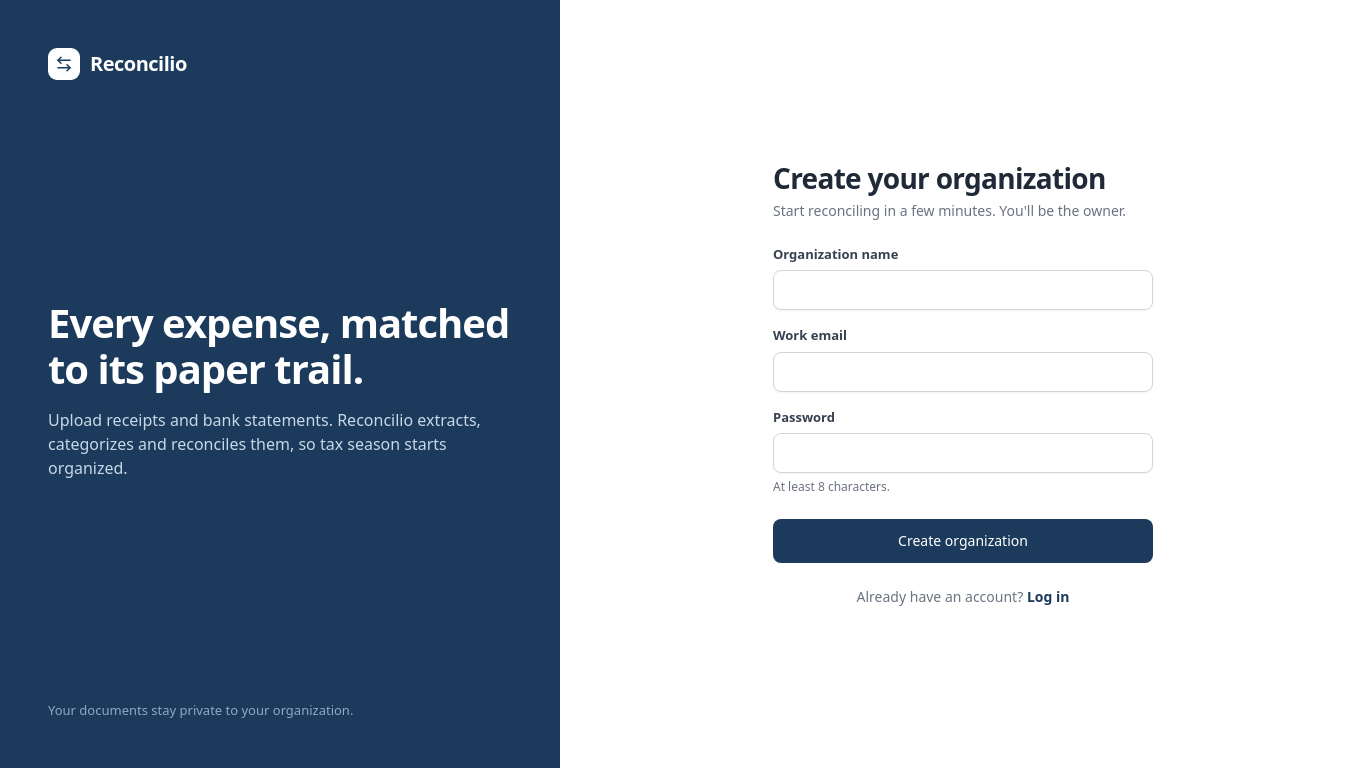
Scenario: signup flow › shows the API error message on a failed signup
Type "Acme Tax" into the field labelled "Organization name" at (963, 290), box [773,270,1153,310]
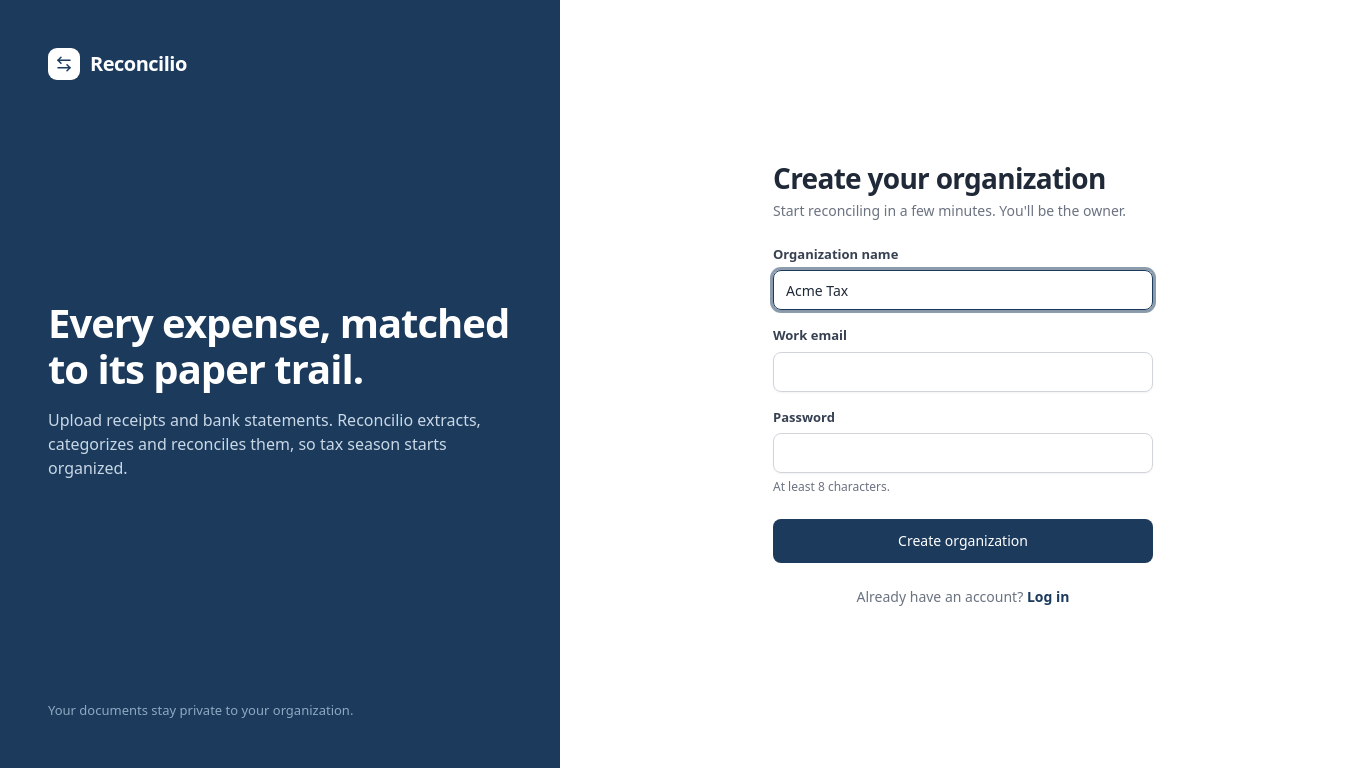
Type "owner@example.com" into the field labelled "Work email" at (963, 372), box [773,352,1153,392]
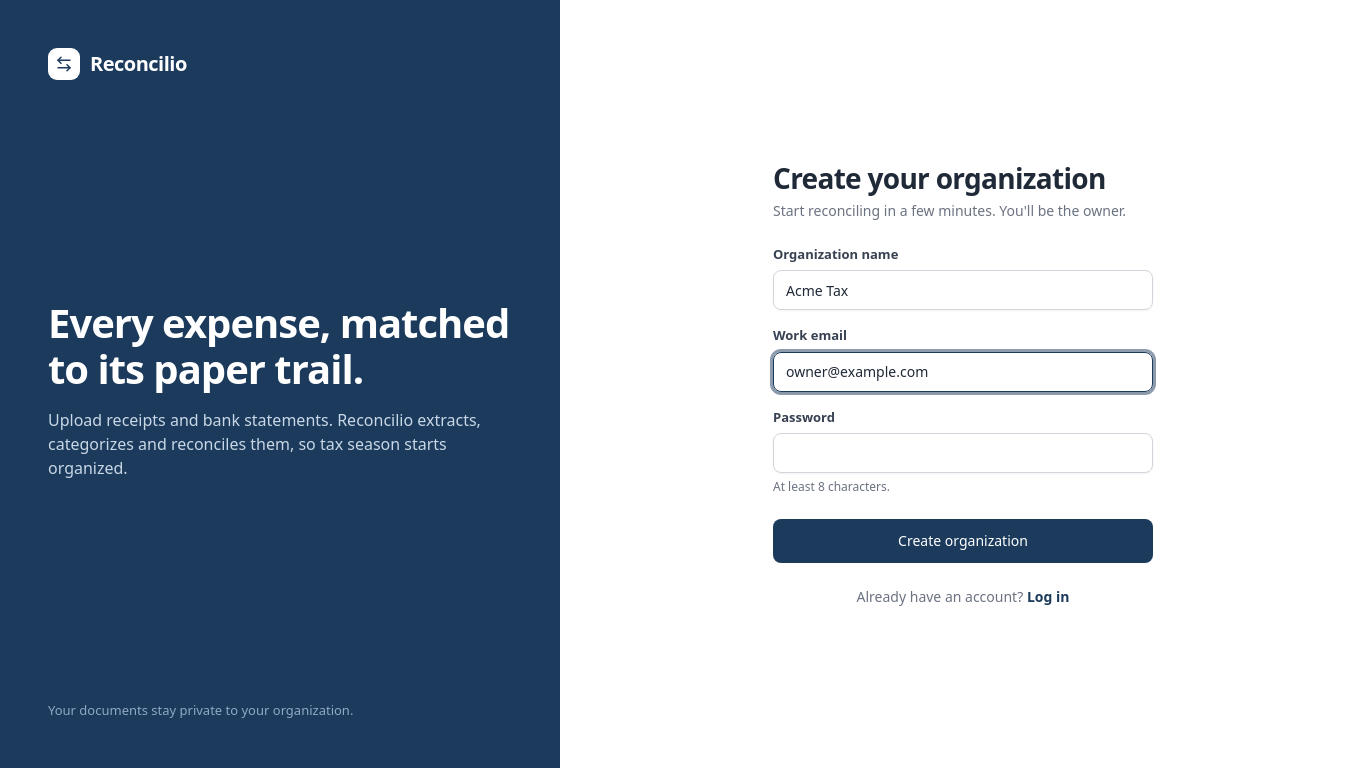
Type "correct-horse" into the password field labelled "Password" at (963, 453), box [773,433,1153,473]
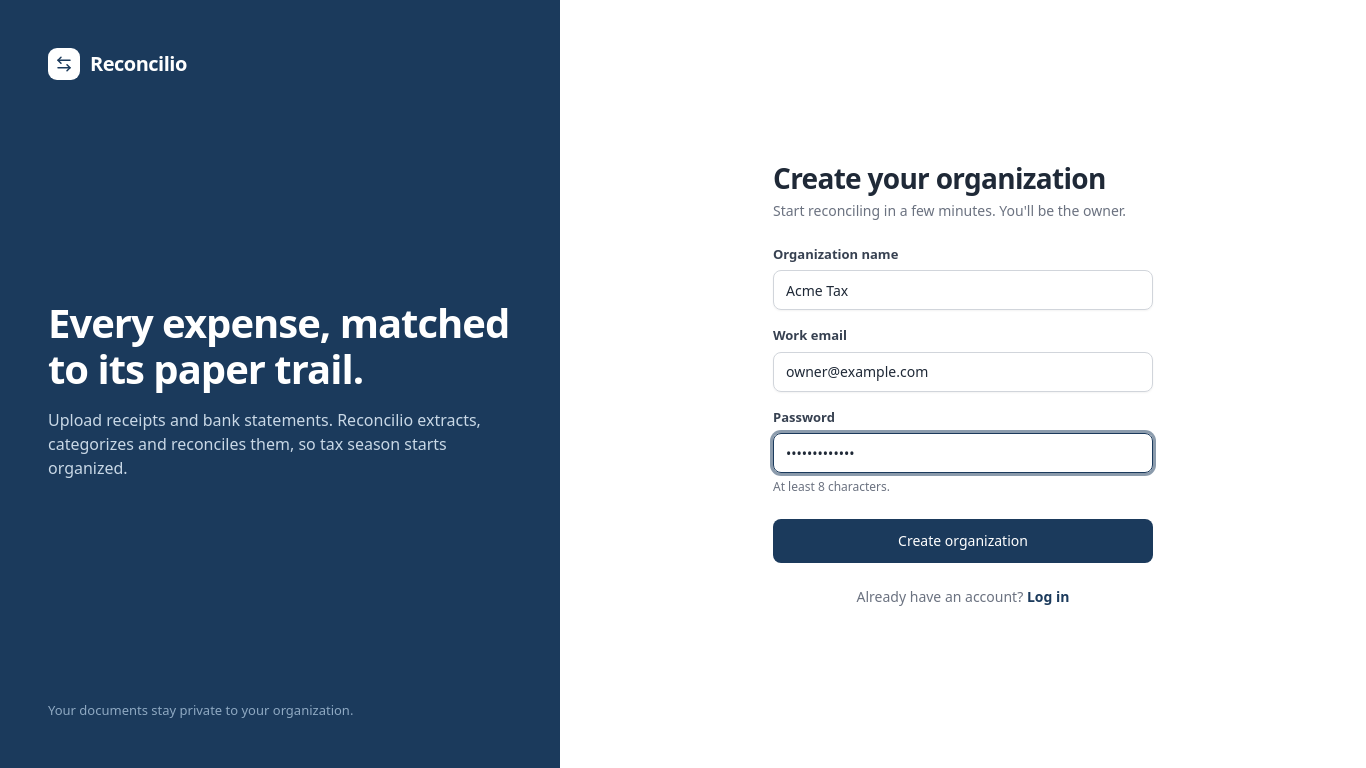
Click the button "Create organization" at (963, 541), box [773,519,1153,563]
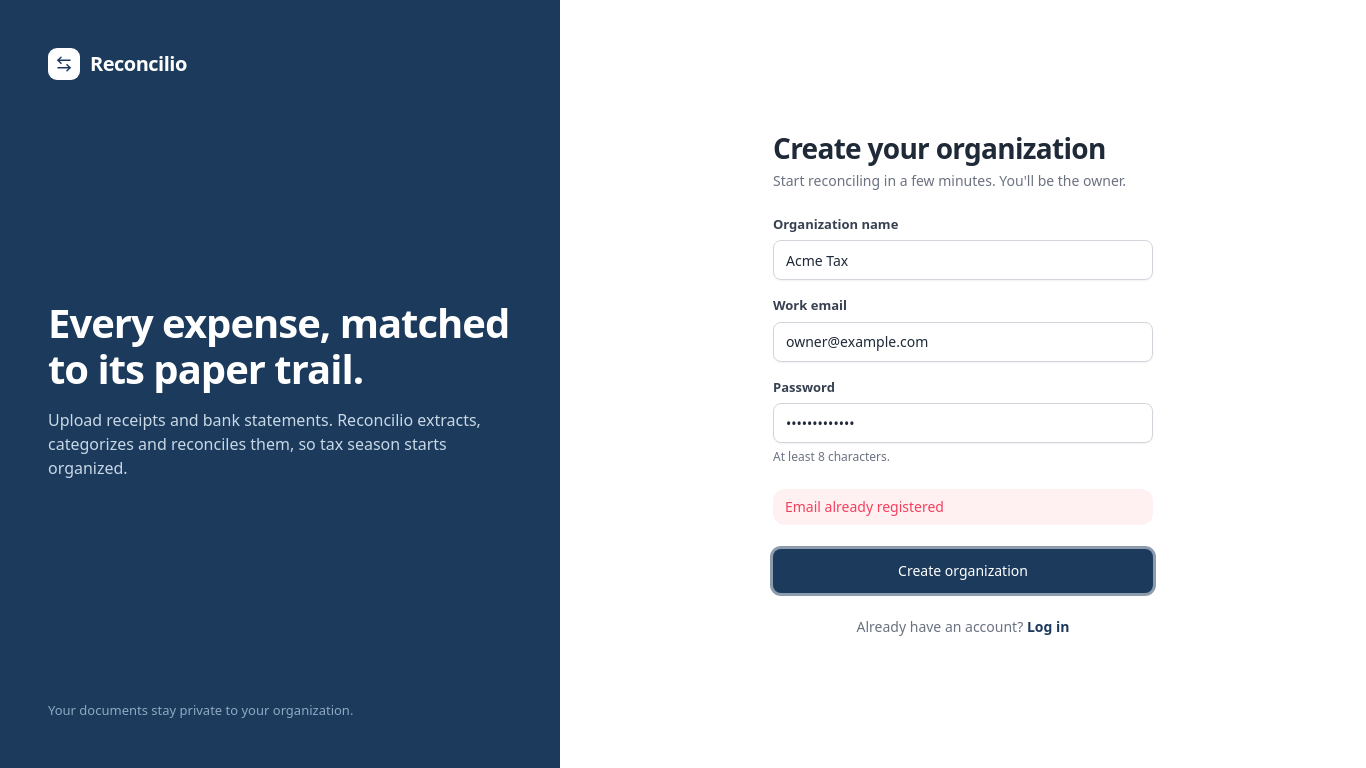
Result: the message reads "Email already registered" at [785,497,944,516]
